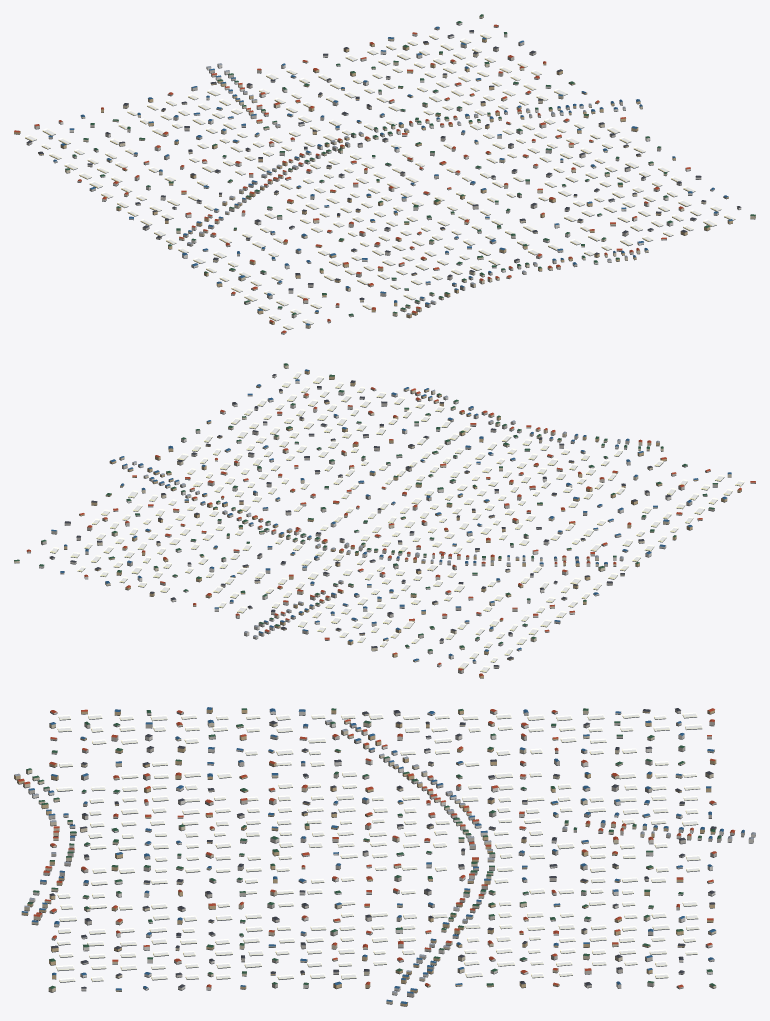
The model's file is buildings_T_W08_N02.glb.
The picture shows the model from 3 angles, top to bottom: view 1: azimuth 30°, elevation 25°; view 2: azimuth 150°, elevation 25°; view 3: azimuth 270°, elevation 25°; orthographic projection. The views are drawn at different scales.
Parts seen in each view (by area): view 1: T_W08_N02_roofs_agri_greenhouse_arch, T_W08_N02_slope_seating_foundations, T_W08_N02_walls_wall_pastel_sand_gray, T_W08_N02_walls_wall_french_ochre_villa, T_W08_N02_walls_wall_dalat_cream_stucco, T_W08_N02_roofs_roof_terracotta_gable, T_W08_N02_walls_wall_modern_warm_white, T_W08_N02_roofs_roof_highland_blue_gable, T_W08_N02_roofs_roof_pine_green_hip, T_W08_N02_roofs_roof_slate_French_villa_hip; view 2: T_W08_N02_roofs_agri_greenhouse_arch, T_W08_N02_slope_seating_foundations, T_W08_N02_walls_wall_pastel_sand_gray, T_W08_N02_walls_wall_french_ochre_villa, T_W08_N02_walls_wall_dalat_cream_stucco, T_W08_N02_roofs_roof_terracotta_gable, T_W08_N02_roofs_roof_highland_blue_gable, T_W08_N02_walls_wall_modern_warm_white, T_W08_N02_roofs_roof_pine_green_hip, T_W08_N02_roofs_roof_slate_French_villa_hip; view 3: T_W08_N02_roofs_agri_greenhouse_arch, T_W08_N02_slope_seating_foundations, T_W08_N02_walls_wall_pastel_sand_gray, T_W08_N02_walls_wall_french_ochre_villa, T_W08_N02_walls_wall_dalat_cream_stucco, T_W08_N02_roofs_roof_terracotta_gable, T_W08_N02_roofs_roof_highland_blue_gable, T_W08_N02_walls_wall_modern_warm_white, T_W08_N02_roofs_roof_pine_green_hip, T_W08_N02_roofs_roof_slate_French_villa_hip, T_W08_N02_roofs_roof_zinc_silver_gable.
Part boxes in pixels (x1,y1,x2,y2): T_W08_N02_roofs_agri_greenhouse_arch: (25,33,735,329); T_W08_N02_slope_seating_foundations: (14,17,755,334); T_W08_N02_walls_wall_pastel_sand_gray: (26,25,696,322); T_W08_N02_walls_wall_french_ochre_villa: (14,38,732,324); T_W08_N02_walls_wall_dalat_cream_stucco: (65,15,755,328); T_W08_N02_roofs_roof_terracotta_gable: (14,24,690,333); T_W08_N02_walls_wall_modern_warm_white: (53,22,741,334); T_W08_N02_roofs_roof_highland_blue_gable: (48,26,732,325); T_W08_N02_roofs_roof_pine_green_hip: (65,14,755,315); T_W08_N02_roofs_roof_slate_French_villa_hip: (26,30,741,299); T_W08_N02_roofs_agri_greenhouse_arch: (50,372,744,671); T_W08_N02_slope_seating_foundations: (14,367,755,678); T_W08_N02_walls_wall_pastel_sand_gray: (27,388,717,673); T_W08_N02_walls_wall_french_ochre_villa: (64,370,741,678); T_W08_N02_walls_wall_dalat_cream_stucco: (14,364,731,661); T_W08_N02_roofs_roof_terracotta_gable: (26,387,755,676); T_W08_N02_roofs_roof_highland_blue_gable: (51,369,731,661); T_W08_N02_walls_wall_modern_warm_white: (39,375,755,666); T_W08_N02_roofs_roof_pine_green_hip: (14,363,717,651); T_W08_N02_roofs_roof_slate_French_villa_hip: (50,374,670,666); T_W08_N02_roofs_agri_greenhouse_arch: (56,712,702,982); T_W08_N02_slope_seating_foundations: (14,711,755,1006); T_W08_N02_walls_wall_pastel_sand_gray: (28,709,744,996); T_W08_N02_walls_wall_french_ochre_villa: (14,708,716,1006); T_W08_N02_walls_wall_dalat_cream_stucco: (23,709,716,1003); T_W08_N02_roofs_roof_terracotta_gable: (18,708,735,987); T_W08_N02_roofs_roof_highland_blue_gable: (21,707,744,1003); T_W08_N02_walls_wall_modern_warm_white: (29,710,755,994); T_W08_N02_roofs_roof_pine_green_hip: (26,708,721,988); T_W08_N02_roofs_roof_slate_French_villa_hip: (49,708,716,988); T_W08_N02_roofs_roof_zinc_silver_gable: (14,719,755,992).
Bounding box in the file's own units: 1860 × 31.16 × 1945.
